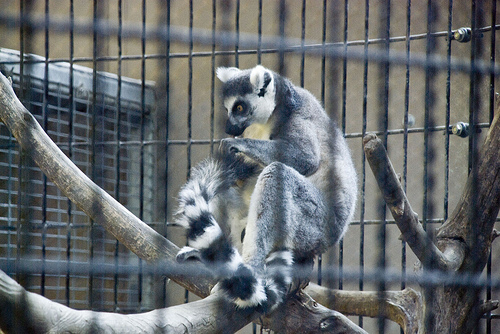cat: (173, 65, 358, 309)
